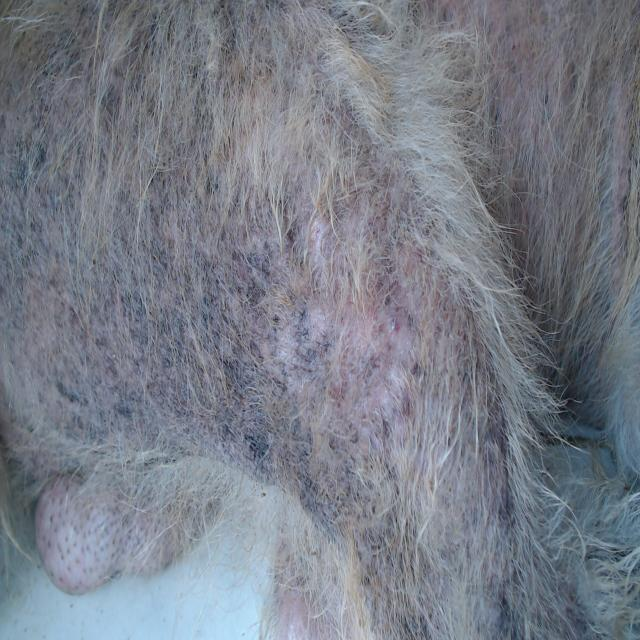demodicosis: (76, 224, 278, 444), (299, 213, 429, 490)
